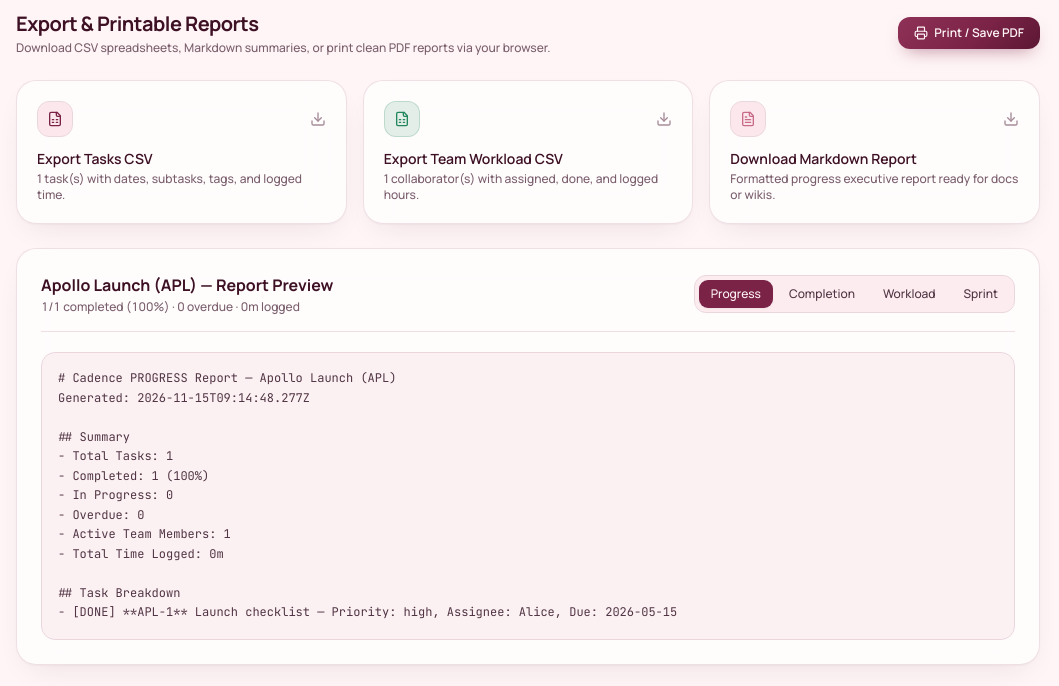
Test case: Cadence UI Components › renders ExportManager report selector and live Markdown preview
The image size is (1059, 686).
Expected: the text "Export Tasks CSV" is shown, 37,149 -> 152,168
Expected: the text "Cadence PROGRESS Report — Apollo Launch" is shown, 58,370 -> 677,620
Click the button "workload".
click(909, 294)  # box 871,280 -> 948,308
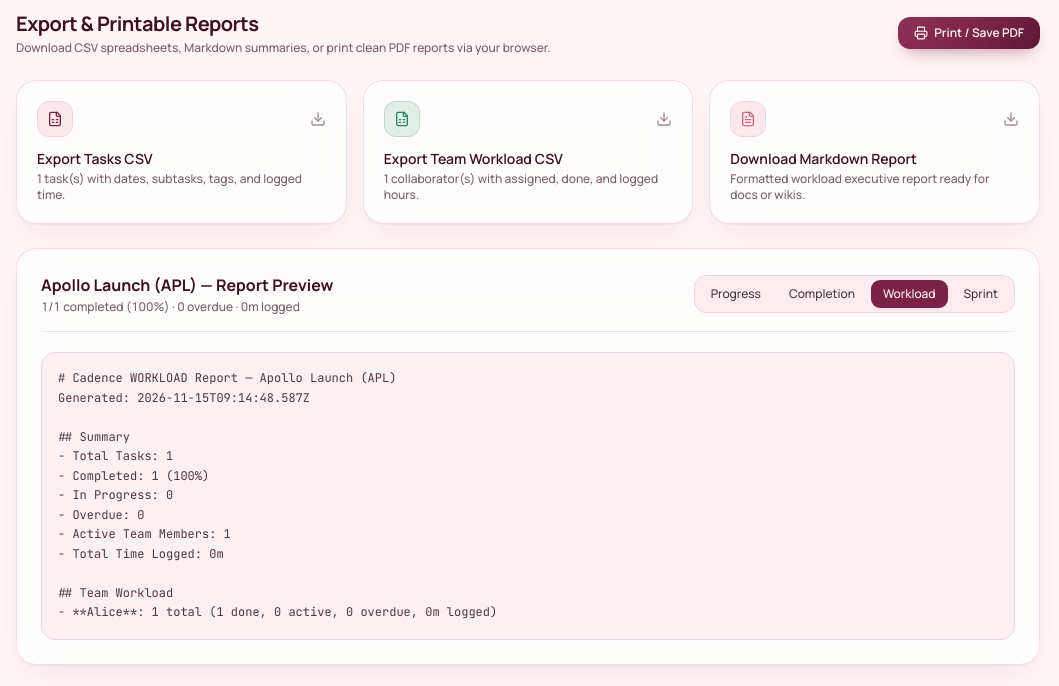
Expected: the text "Cadence WORKLOAD Report — Apollo Launch" is shown, 58,370 -> 497,620
